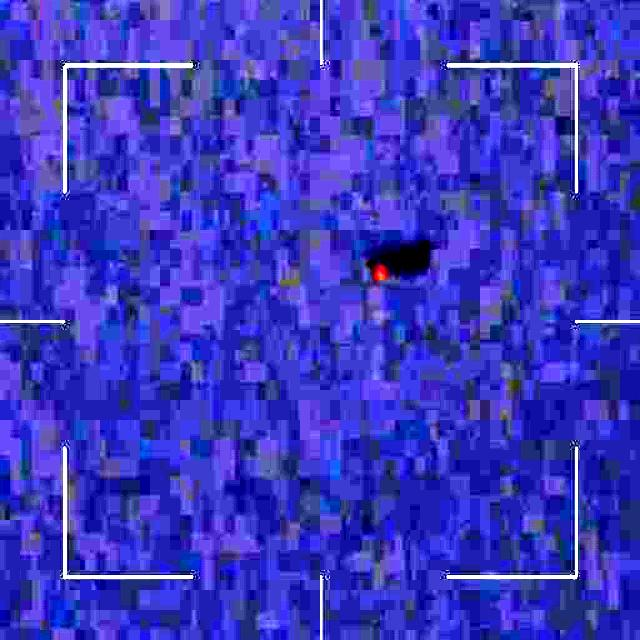bird: (362, 249, 400, 295)
